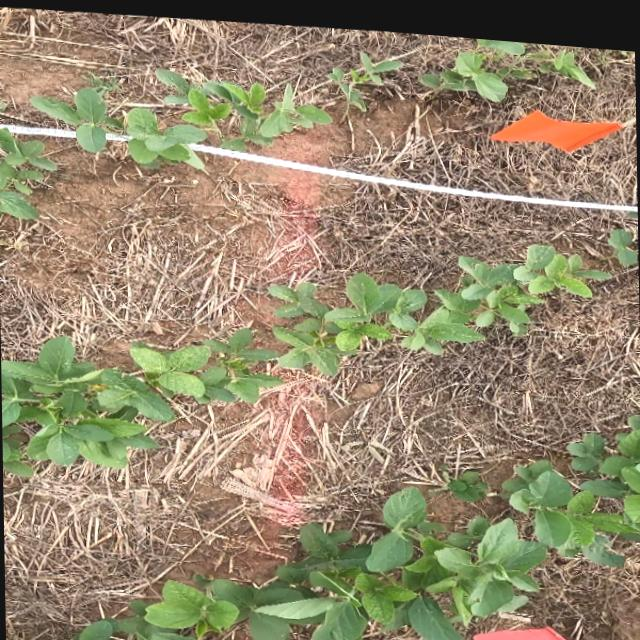soy_plant: (45, 404, 640, 640), (269, 233, 608, 369), (1, 323, 277, 474), (31, 66, 328, 162), (428, 31, 592, 91), (0, 131, 49, 217), (333, 48, 397, 100), (444, 461, 487, 491), (609, 218, 638, 253)
